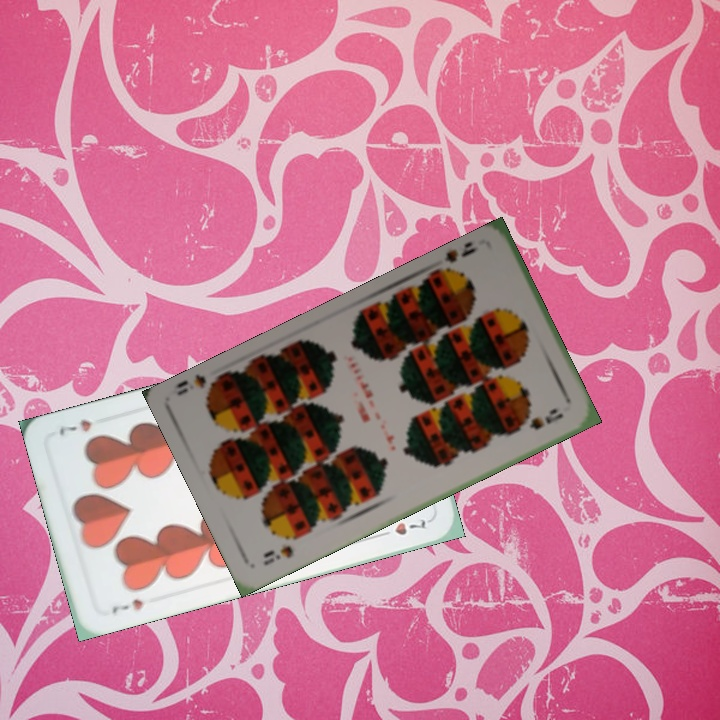H7: (108, 595, 146, 616)
S9: (433, 239, 481, 281), (259, 541, 296, 568)
